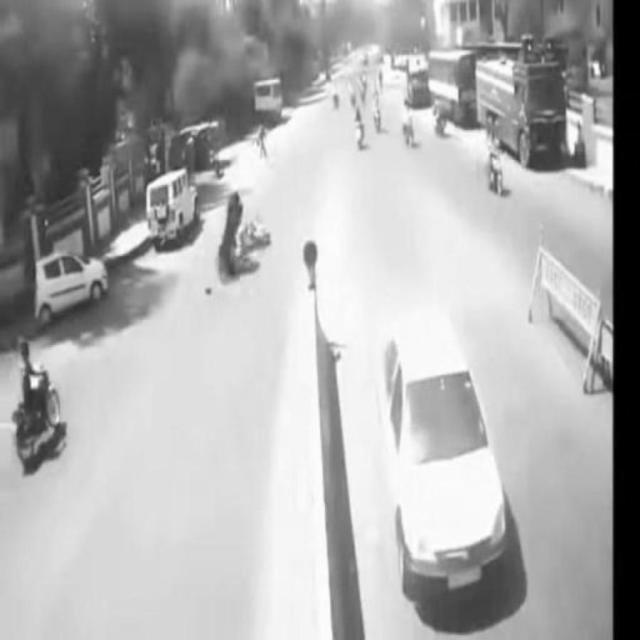vehicle: (376, 323, 510, 593), (477, 63, 571, 166), (10, 343, 66, 454), (37, 249, 110, 323), (139, 167, 201, 247)
